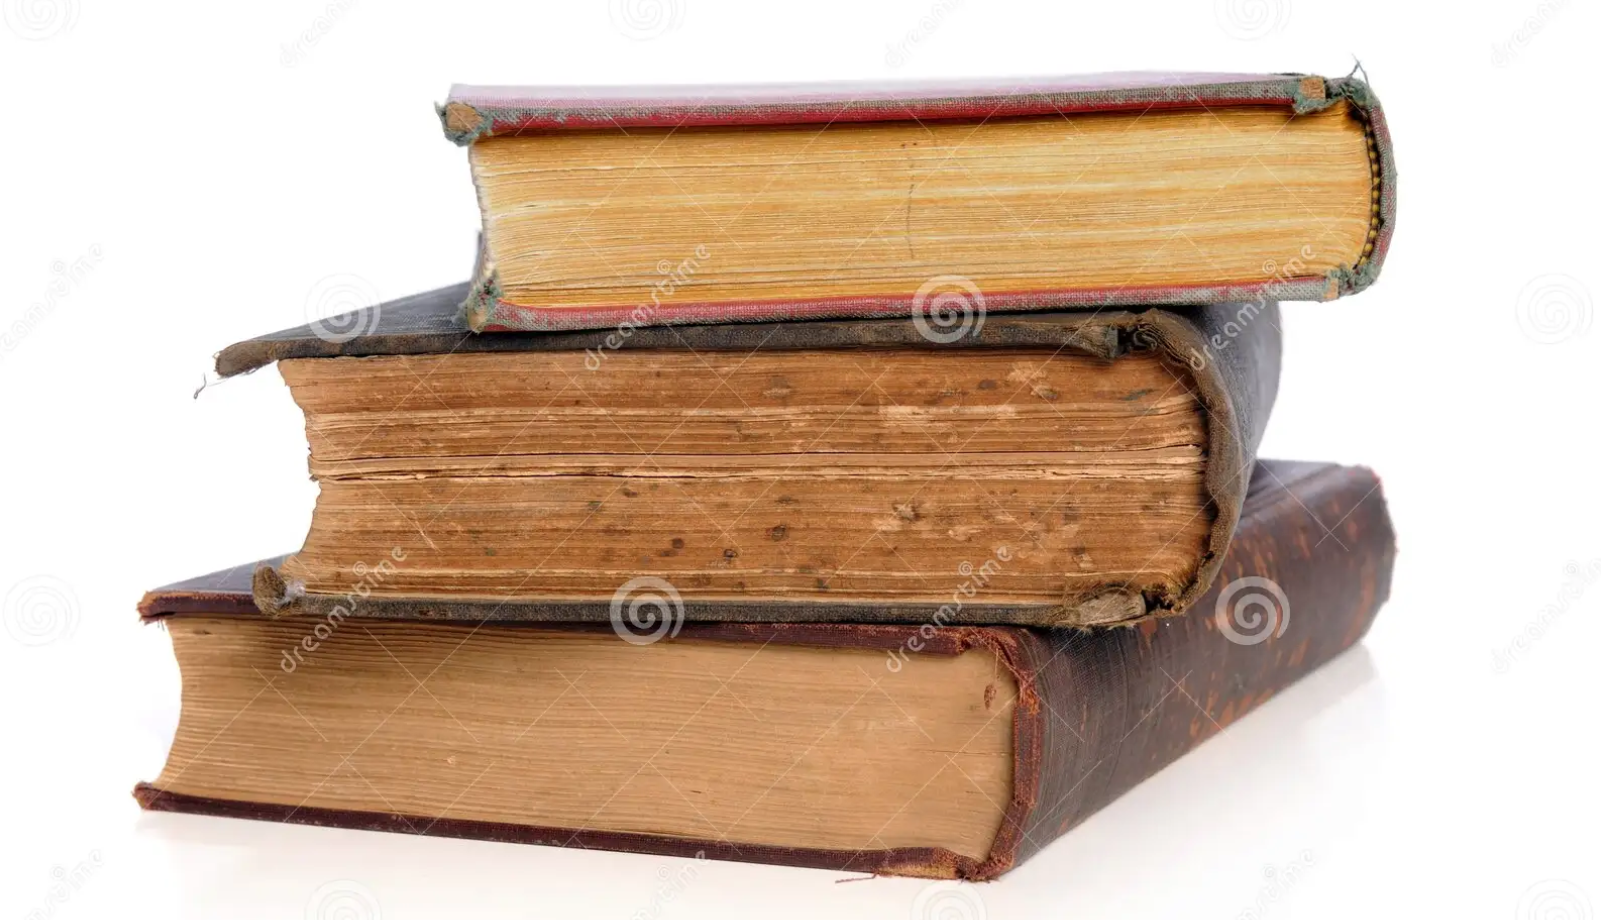book: (139, 552, 1438, 885), (216, 306, 1248, 633), (424, 73, 1420, 301)
